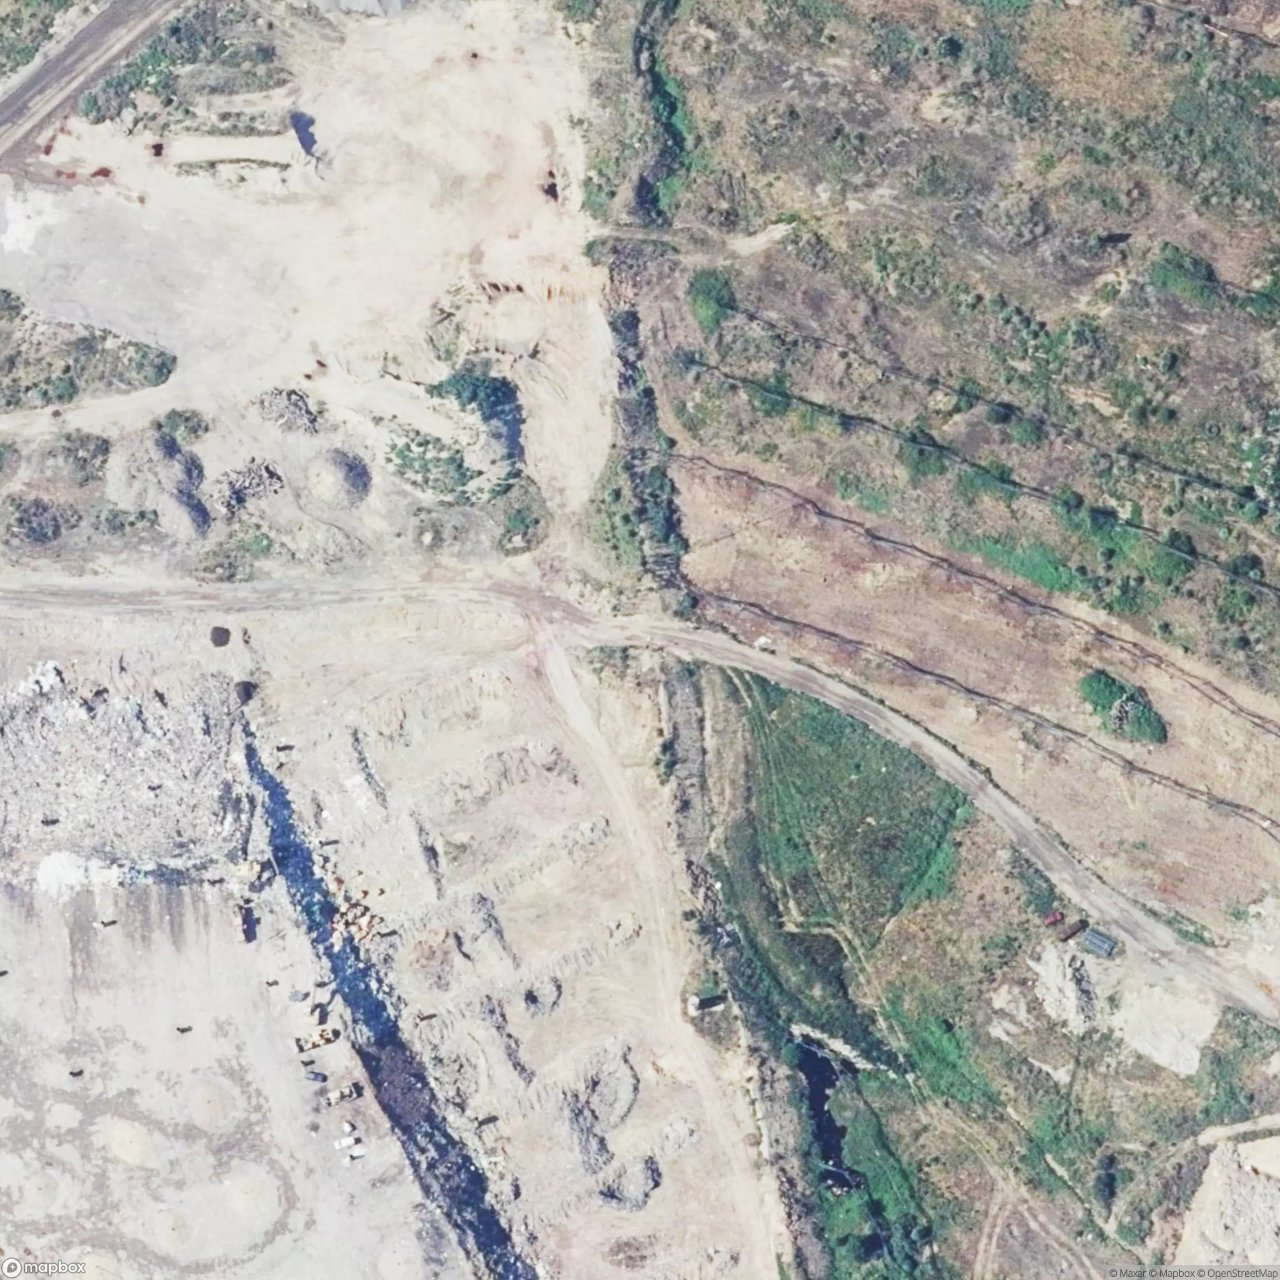dump_site: (0, 644, 286, 918)
